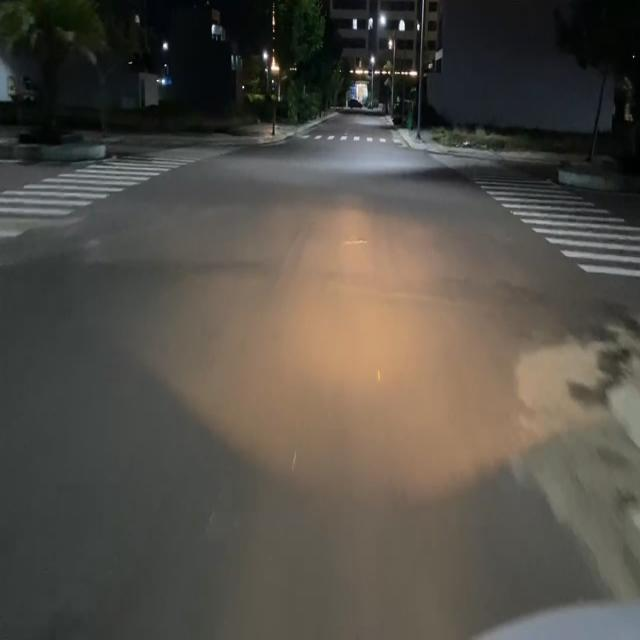walk-crossing: (467, 170, 639, 298), (1, 148, 196, 242), (296, 130, 406, 148)
